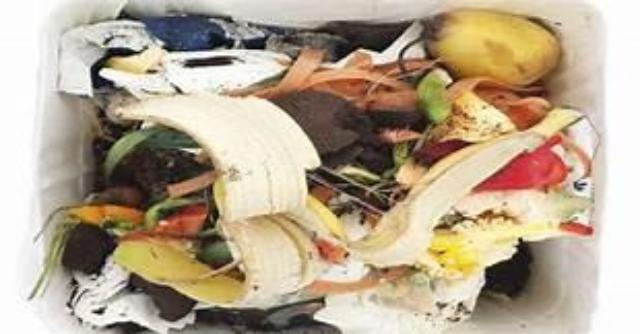Garbage: (30, 5, 604, 334)
